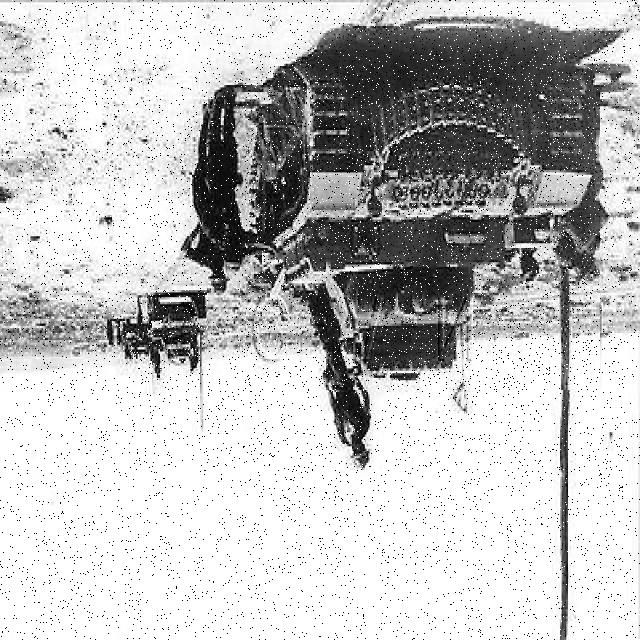MIL_MBT: (245, 54, 597, 390), (148, 288, 207, 369)
